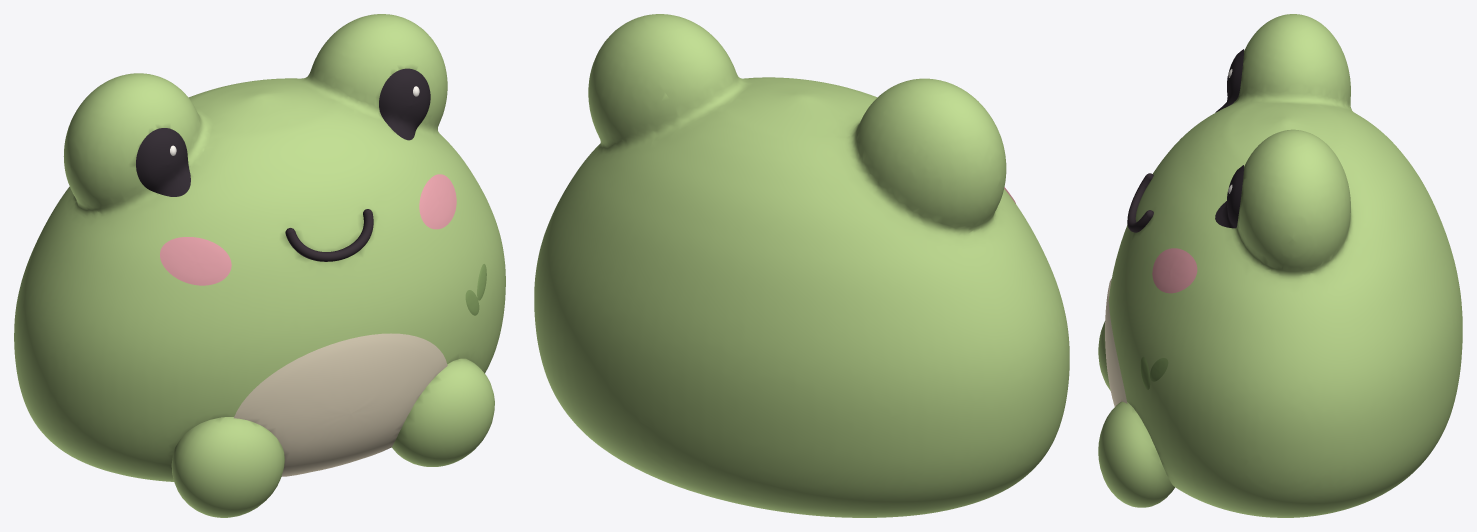
The model's file is animal-frog.glb.
3 renders of one model, left to right at view 1: azimuth 30°, elevation 25°; view 2: azimuth 150°, elevation 25°; view 3: azimuth 270°, elevation 25°, orthographic. The views are drawn at different scales.
Parts seen in each view (by area): view 1: frog Dough tint, frog Animal detail, frog Animal eyes, frog Animal blush, frog Animal ink; view 2: frog Dough tint; view 3: frog Dough tint, frog Animal blush, frog Animal eyes, frog Animal detail, frog Animal ink, frog Animal accent.
Part boxes in pixels (box(x1,y1,x2,y2)): frog Dough tint: box(14, 14, 505, 517); frog Animal detail: box(234, 333, 447, 476); frog Animal eyes: box(136, 68, 430, 196); frog Animal blush: box(160, 174, 456, 285); frog Animal ink: box(285, 209, 373, 261); frog Dough tint: box(534, 14, 1069, 517); frog Dough tint: box(1098, 14, 1462, 517); frog Animal blush: box(1152, 248, 1197, 293); frog Animal eyes: box(1215, 49, 1243, 228); frog Animal detail: box(1105, 278, 1127, 406); frog Animal ink: box(1127, 173, 1153, 232); frog Animal accent: box(1140, 356, 1168, 389).
Size of the model in its own units: 1.24 by 0.9947 by 0.8781.
